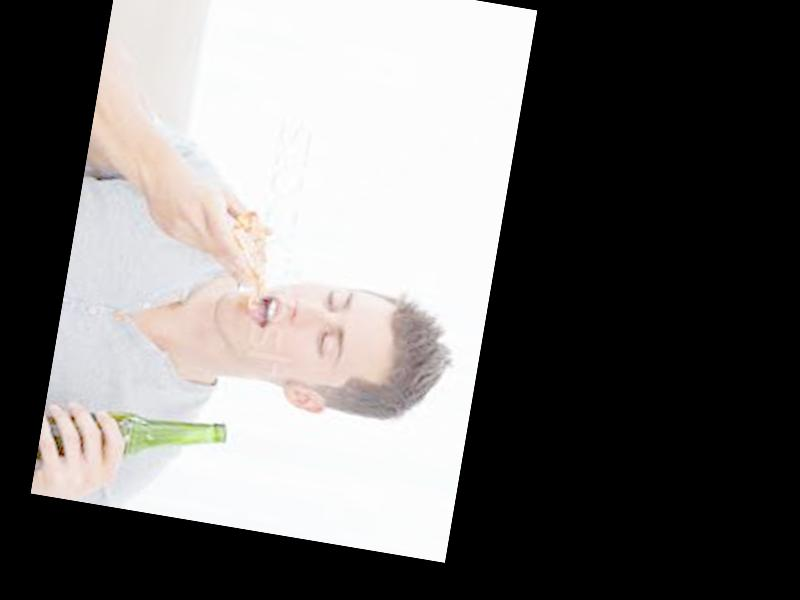Beer: (35, 393, 228, 491)
